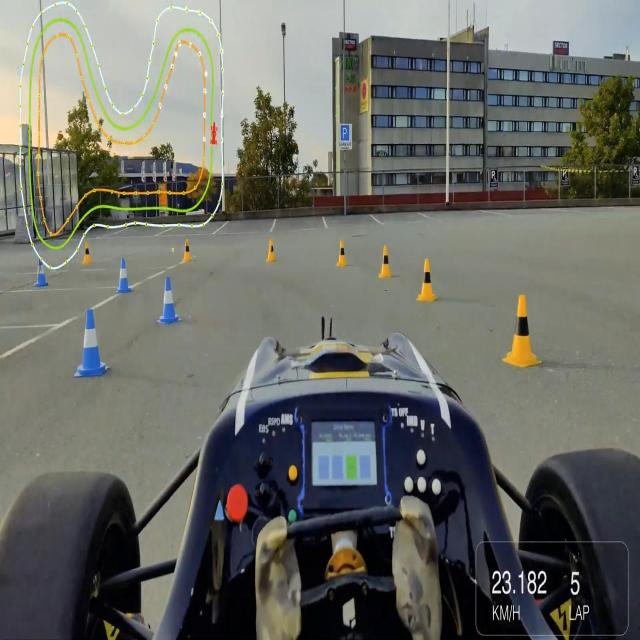blue_cone: (72, 305, 108, 378), (158, 273, 181, 332), (116, 254, 130, 296), (34, 257, 50, 289)
yellow_cone: (500, 290, 543, 369), (417, 258, 437, 304), (377, 242, 392, 281), (334, 237, 348, 268), (266, 239, 278, 264), (182, 238, 192, 262), (82, 240, 91, 263)
